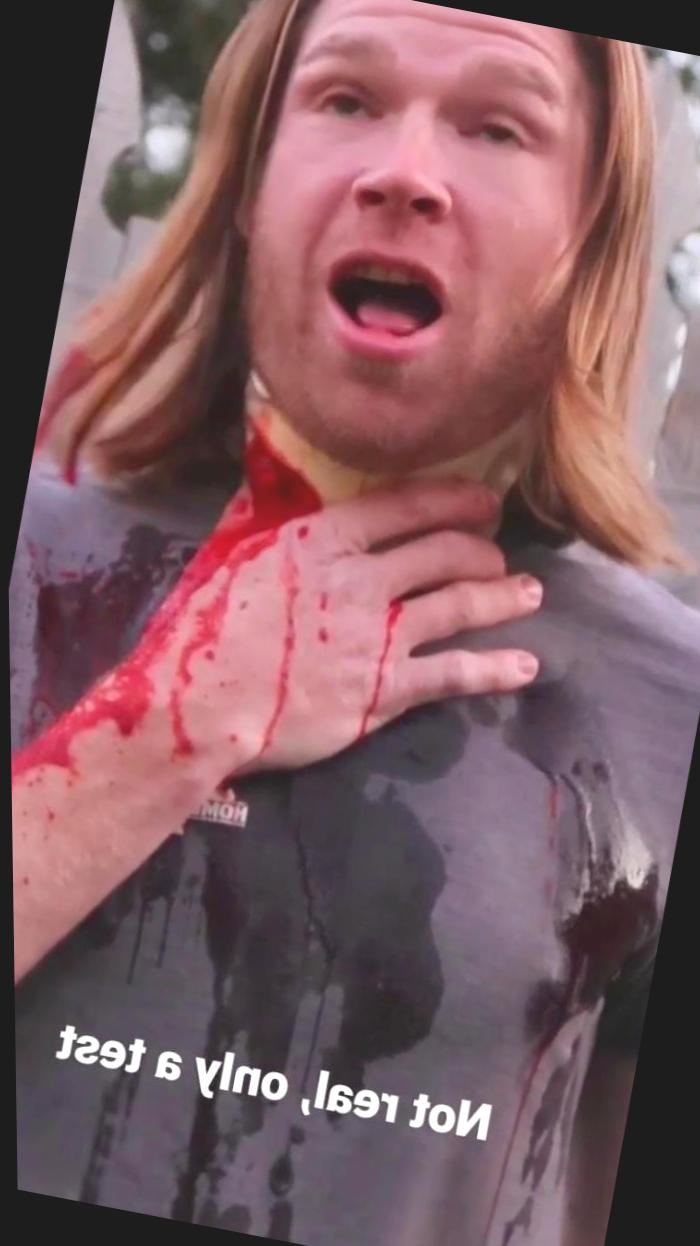Fire: (9, 434, 396, 797), (37, 304, 114, 483)
